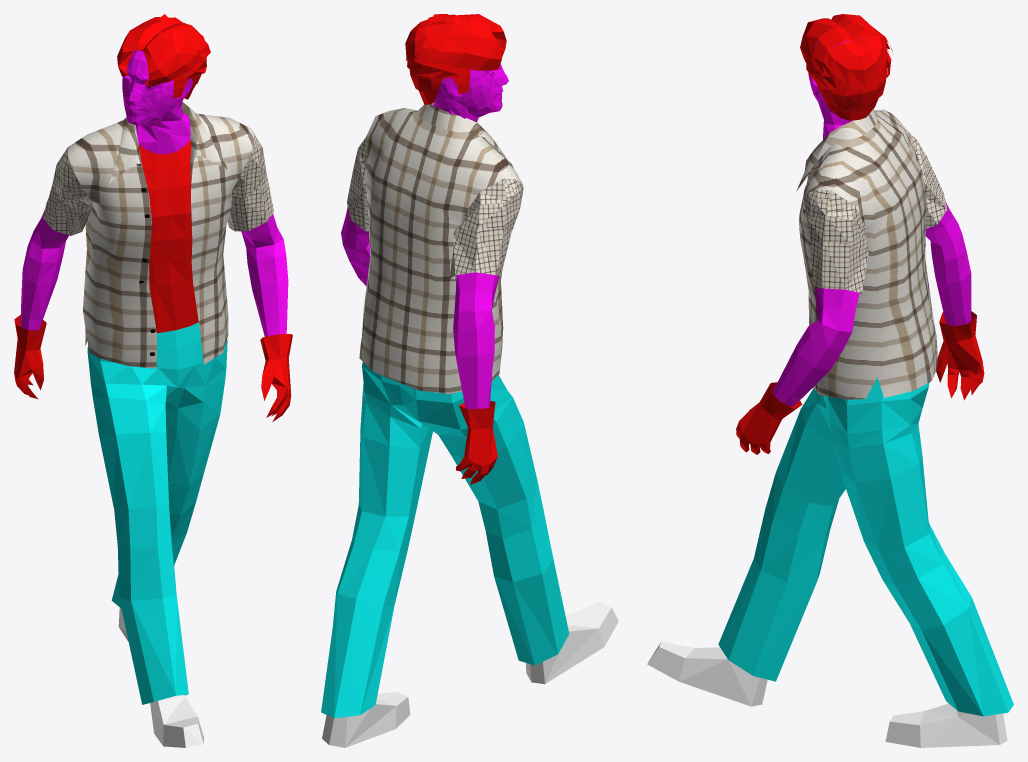
The model's file is people.obj.
3 views of the same model, side by side, from view 1: azimuth 30°, elevation 25°; view 2: azimuth 150°, elevation 25°; view 3: azimuth 270°, elevation 25° (orthographic). The views are drawn at different scales.
Visible parts, largest first — view 1: Group4, Group2, Model, Group3, Mesh05, Mesh24, Mesh25, Mesh03, Mesh01, Mesh02; view 2: Group2, Group4, Mesh25, Mesh05, Mesh03, Mesh04, Group3, Mesh02, Mesh24, Mesh18, Mesh06; view 3: Group2, Group4, Mesh24, Mesh03, Mesh04, Mesh25, Mesh02, Mesh06, Mesh05, Mesh01, Mesh22, Group3.
Part boxes in pixels (x1=…): Group4: x1=43, y1=102, x2=273, y2=368; Group2: x1=87, y1=322, x2=227, y2=704; Model: x1=138, y1=139, x2=198, y2=332; Group3: x1=122, y1=50, x2=193, y2=154; Mesh05: x1=117, y1=17, x2=210, y2=86; Mesh24: x1=241, y1=214, x2=288, y2=336; Mesh25: x1=20, y1=209, x2=68, y2=330; Mesh03: x1=150, y1=695, x2=204, y2=747; Mesh01: x1=260, y1=334, x2=292, y2=421; Mesh02: x1=14, y1=314, x2=46, y2=398; Group2: x1=321, y1=362, x2=569, y2=718; Group4: x1=347, y1=102, x2=523, y2=393; Mesh25: x1=453, y1=272, x2=498, y2=409; Mesh05: x1=418, y1=14, x2=506, y2=70; Mesh03: x1=526, y1=602, x2=618, y2=684; Mesh04: x1=322, y1=691, x2=410, y2=747; Group3: x1=433, y1=64, x2=508, y2=122; Mesh02: x1=456, y1=401, x2=497, y2=484; Mesh24: x1=341, y1=206, x2=370, y2=286; Mesh18: x1=412, y1=53, x2=464, y2=78; Mesh06: x1=405, y1=19, x2=428, y2=60; Group2: x1=718, y1=377, x2=1013, y2=716; Group4: x1=796, y1=109, x2=947, y2=399; Mesh24: x1=773, y1=287, x2=859, y2=406; Mesh03: x1=647, y1=641, x2=767, y2=706; Mesh04: x1=885, y1=703, x2=1007, y2=747; Mesh25: x1=925, y1=202, x2=971, y2=326; Mesh02: x1=936, y1=311, x2=984, y2=400; Mesh06: x1=823, y1=35, x2=888, y2=87; Mesh05: x1=800, y1=14, x2=892, y2=73; Mesh01: x1=736, y1=382, x2=802, y2=454; Mesh22: x1=817, y1=78, x2=885, y2=106; Group3: x1=808, y1=36, x2=865, y2=139.
Bounding box in the file's own units: 23.58 × 73.21 × 34.63.
8 materials, 1 textured.
